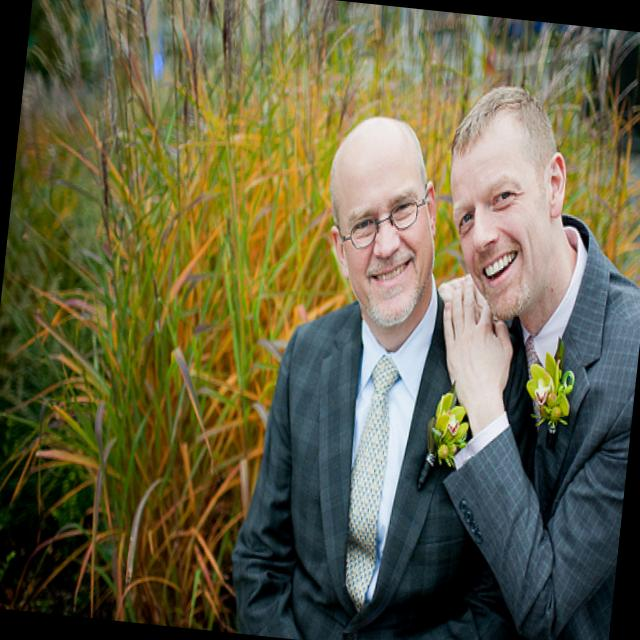Vehicle: (613, 30, 640, 150)
